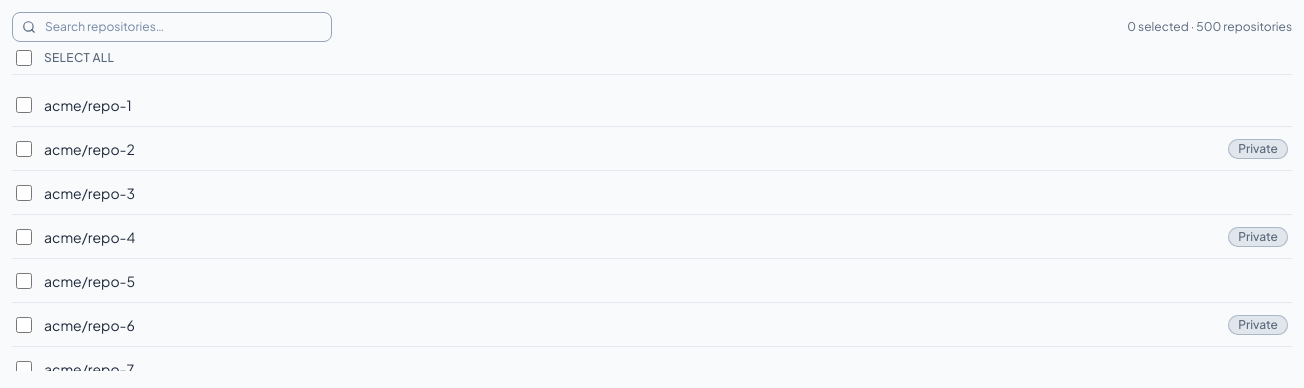
Scenario: RepositoryPickerList › switches to the virtualized path above the threshold and reserves the full scroll height
Expected: the text "0 selected · 500 repositories" is shown, [1127,19,1292,35]
Type "repo-499" into the field labelled "Search repositories" at (172, 27), box [12,12,332,42]
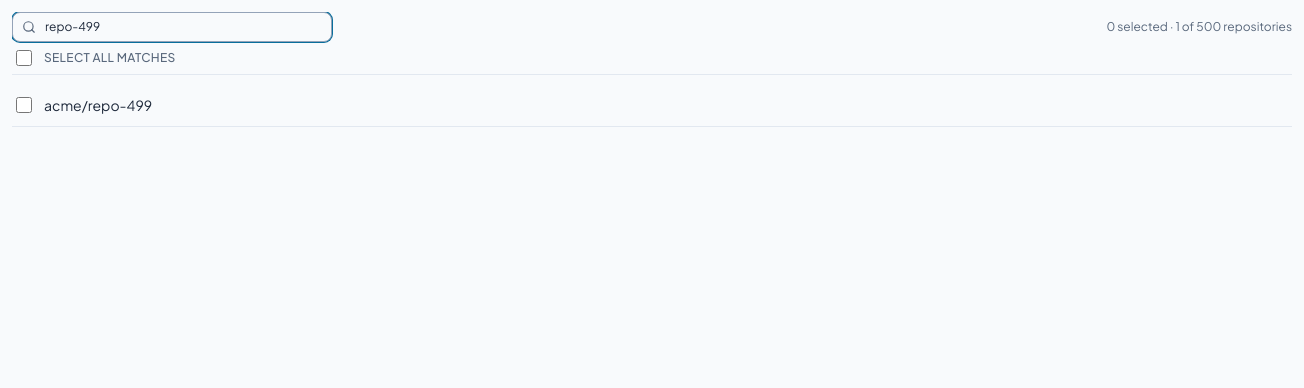
Expected: the checkbox labelled "acme/repo-499" is shown, [16,96,32,112]
Result: the text "0 selected · 1 of 500 repositories" is shown at [1106,19,1292,35]
